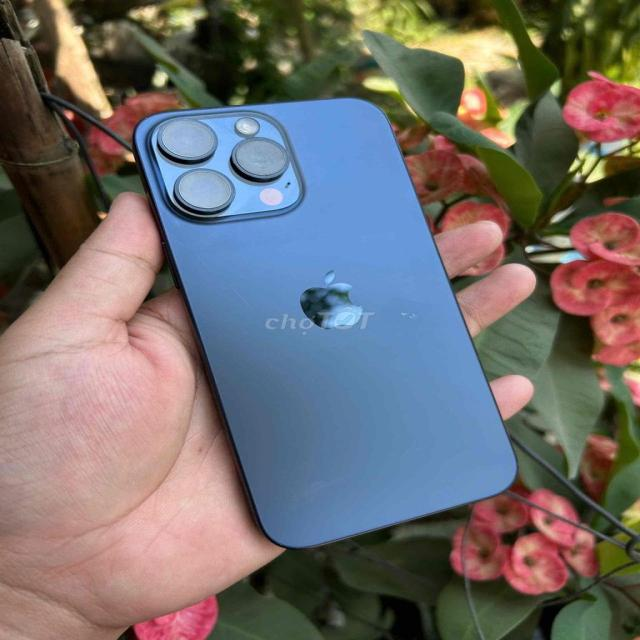scratch: (400, 307, 420, 322)
